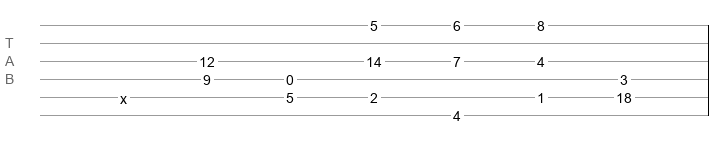0: (286, 72, 294, 82)
1: (537, 90, 545, 100)
12: (199, 54, 215, 64)
14: (366, 54, 382, 64)
18: (616, 90, 632, 100)
2: (370, 90, 378, 100)
3: (620, 72, 628, 82)
4: (453, 108, 461, 118), (537, 54, 545, 64)
5: (286, 90, 294, 100), (370, 18, 378, 28)
6: (453, 18, 461, 28)
7: (453, 54, 461, 64)
8: (537, 18, 545, 28)
9: (203, 72, 211, 82)
x: (120, 91, 127, 99)
